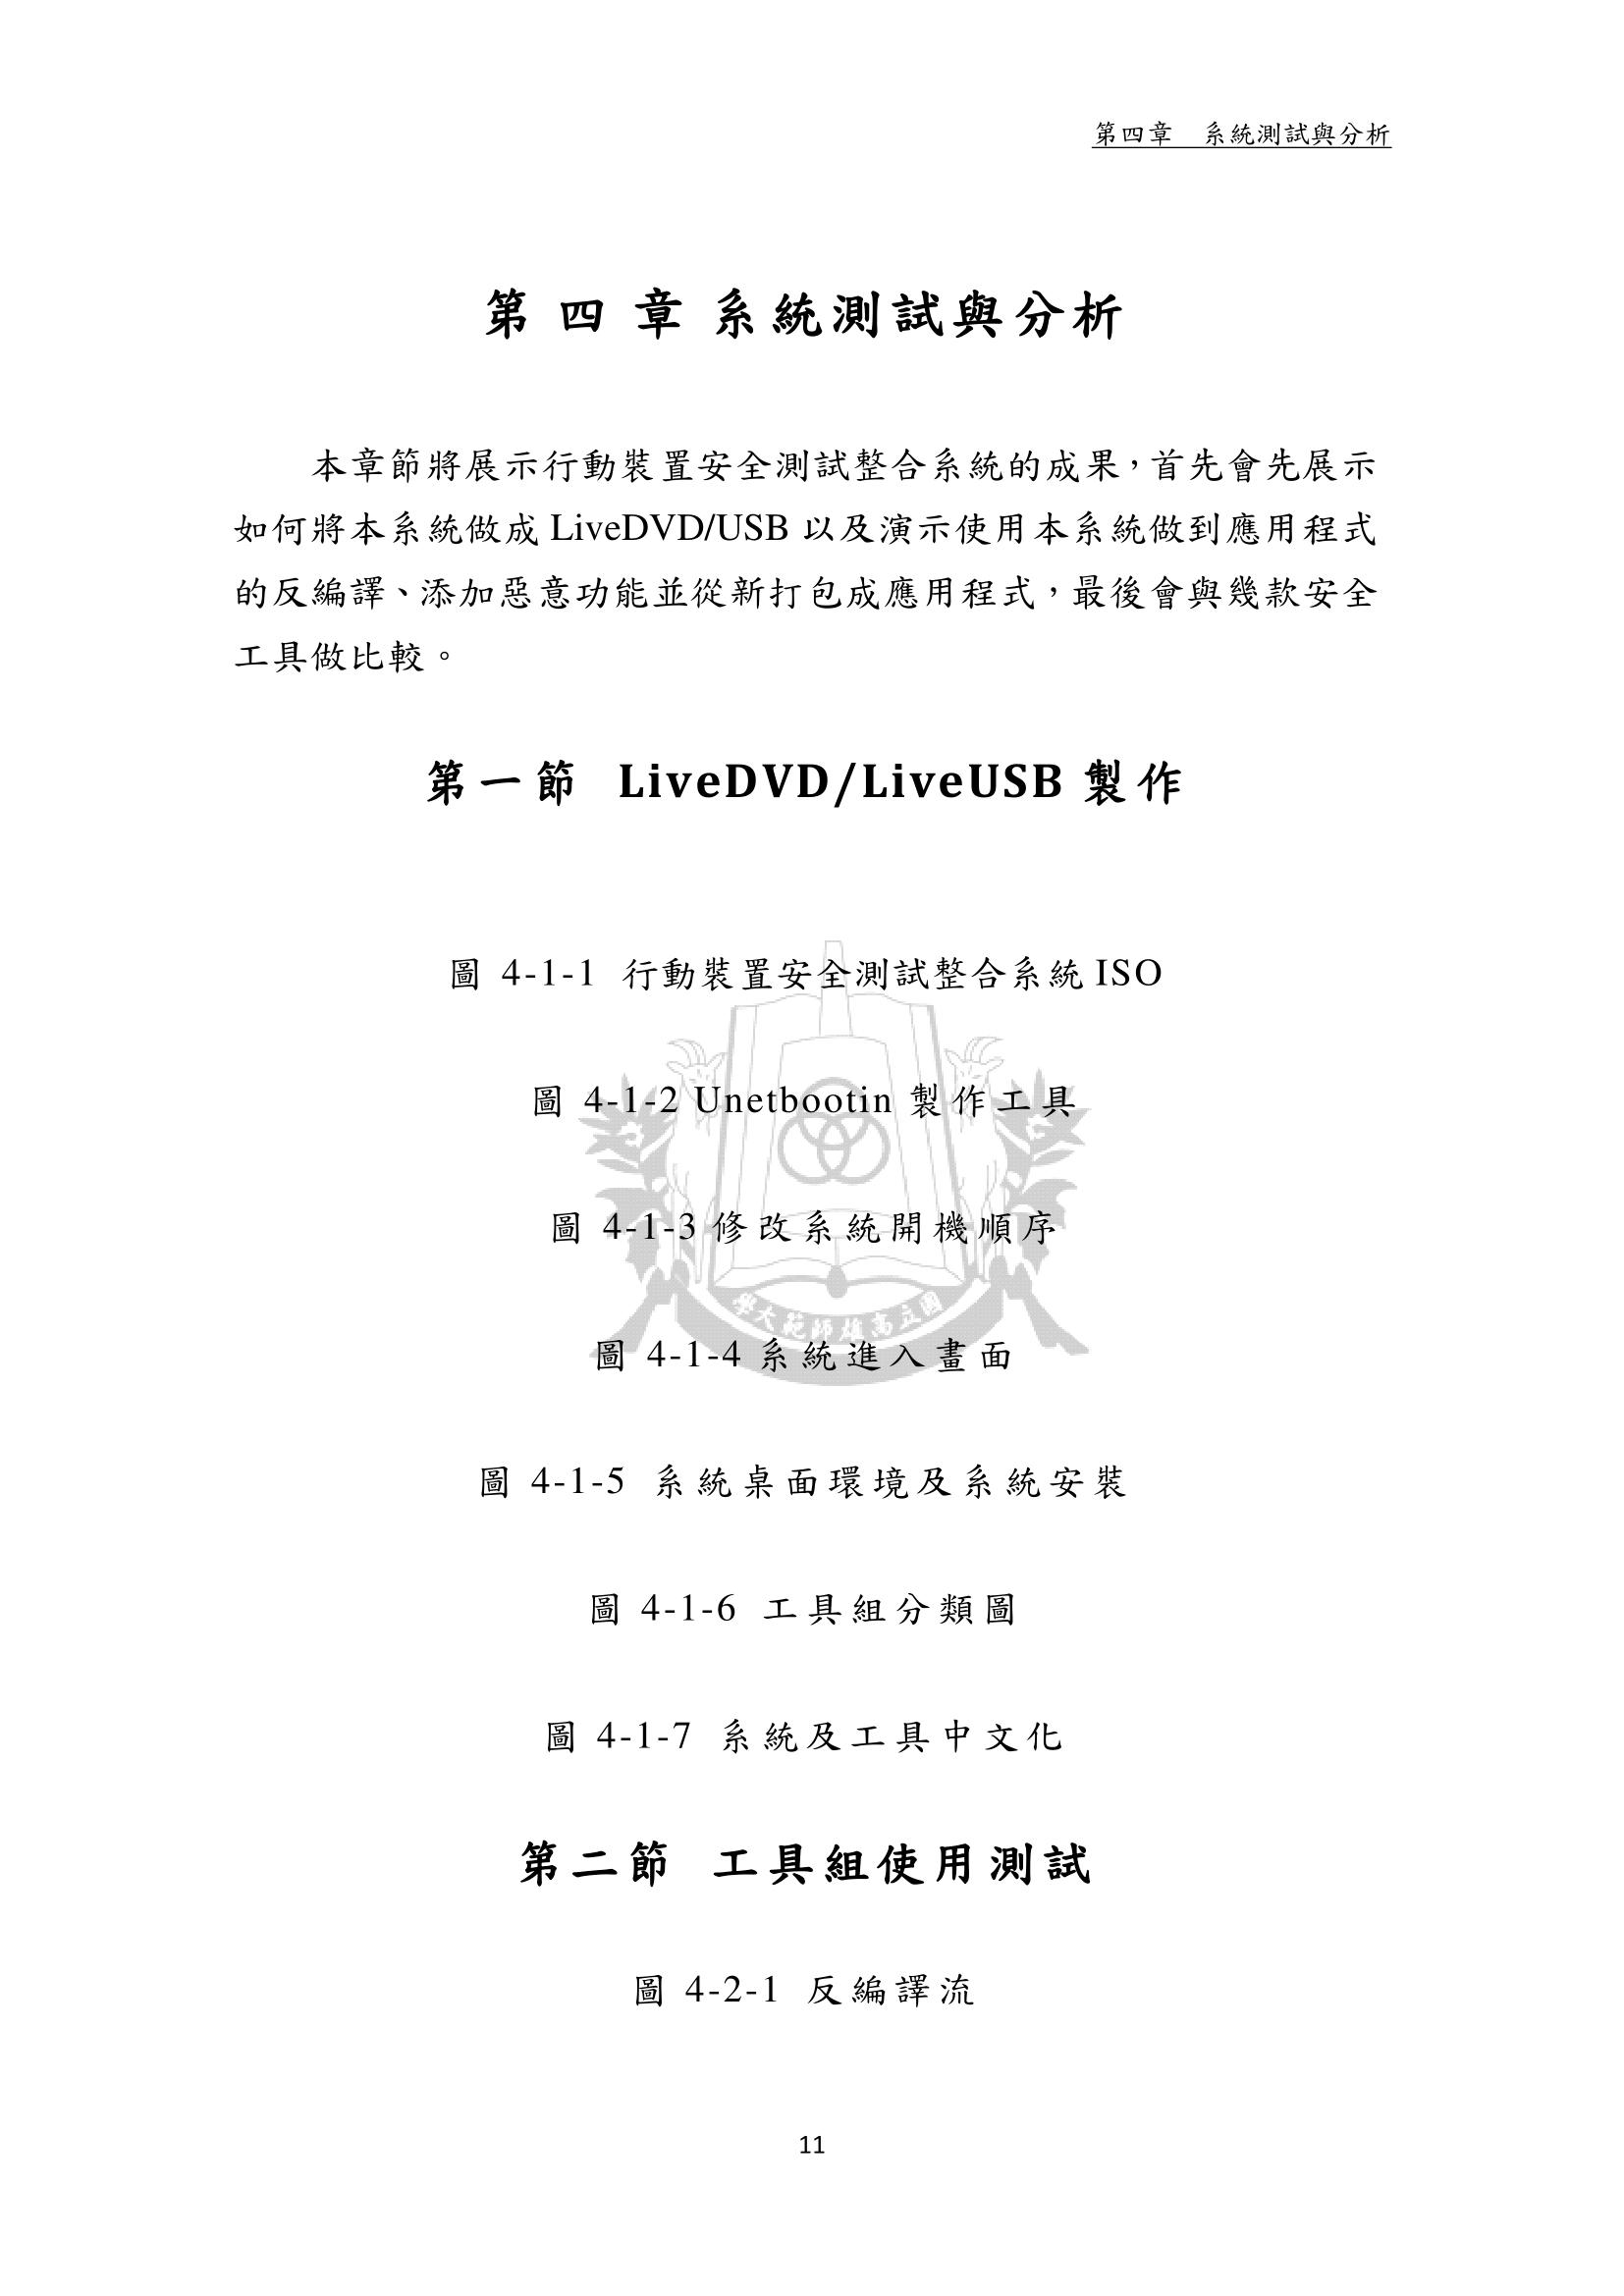text: (223, 427, 1399, 689), (466, 264, 1149, 372), (404, 747, 1190, 829), (439, 942, 1169, 1012), (468, 1455, 1146, 1525), (504, 1066, 1091, 1138), (504, 1834, 1114, 1897), (534, 1200, 1074, 1270), (513, 1706, 1077, 1767), (564, 1574, 1028, 1648), (575, 1319, 1021, 1393), (613, 1957, 993, 2024)
